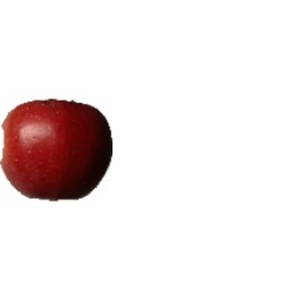maçã braeburn: (1, 97, 115, 201)
